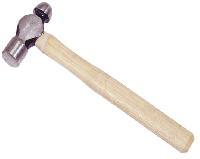hammer: (0, 0, 195, 154)
